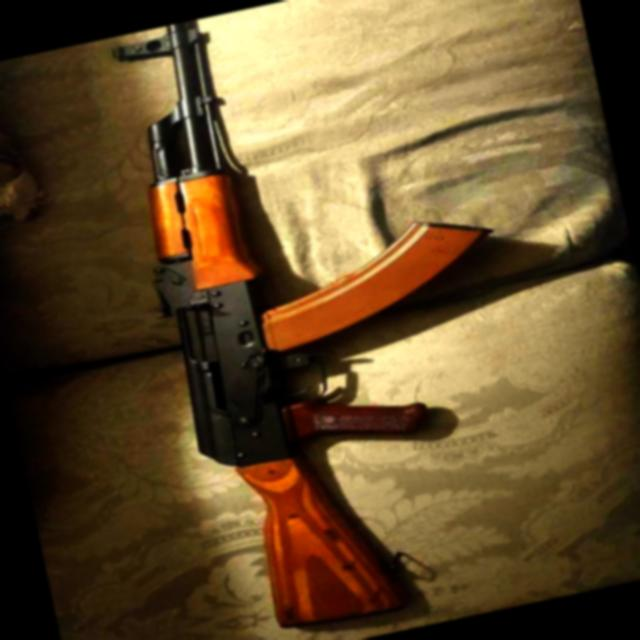ak: (106, 0, 562, 640)
